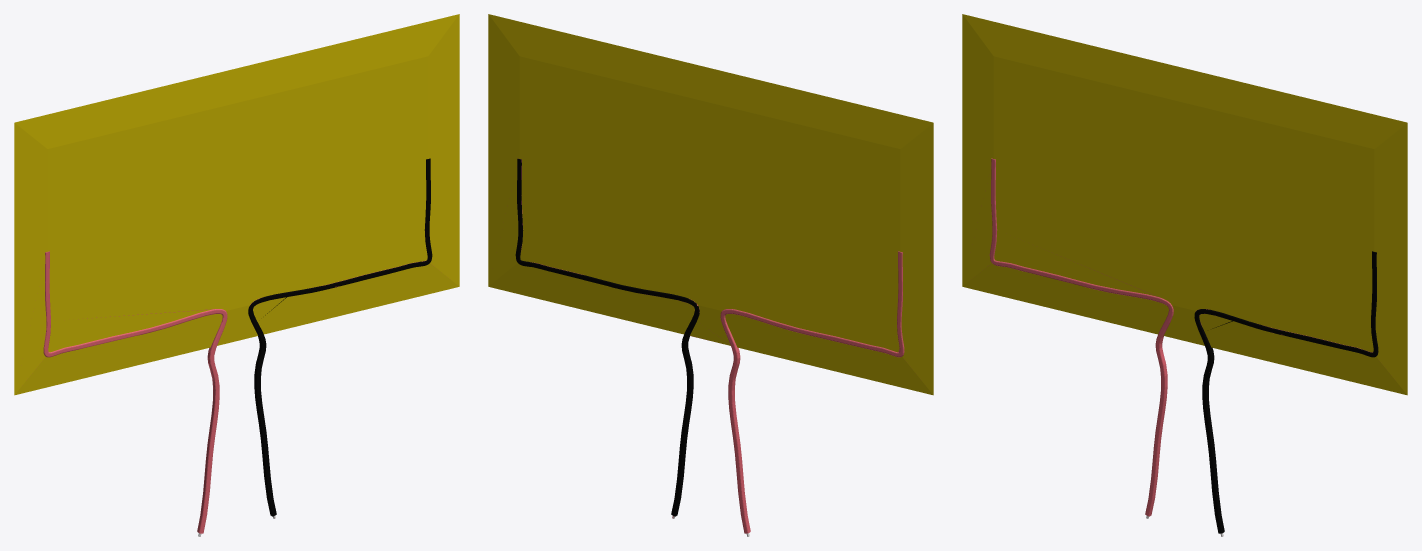
3 renders of one model, left to right at view 1: azimuth 30°, elevation 25°; view 2: azimuth 150°, elevation 25°; view 3: azimuth 330°, elevation 25°, orthographic.
Visible parts, largest first — view 1: _1288; view 2: _1288; view 3: _1288.
Boxes of the visible parts, x1,y1,x2,y2 form: _1288: (14,14,459,536); _1288: (488,14,933,536); _1288: (962,14,1407,536).
Size of the model in its own units: 119 by 1.28 by 117.
